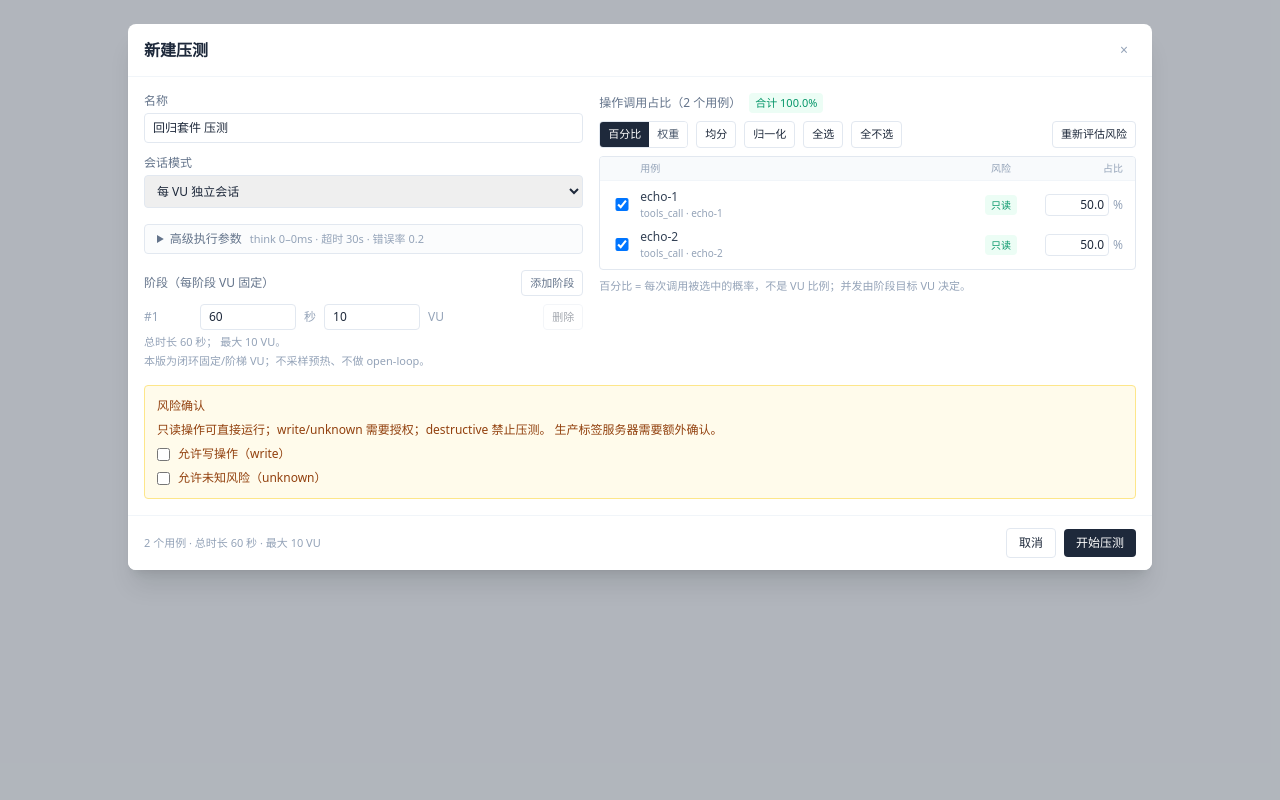
ProfileDialog 操作调用占比 › 取消后重新勾选会恢复原输入并参与归一化
Expected: the button "开始压测" is enabled, [1064,529,1136,557]
Replace the text in the field named "用例 echo-1 的占比" with "70" at (1077, 204), box [1045,194,1109,216]
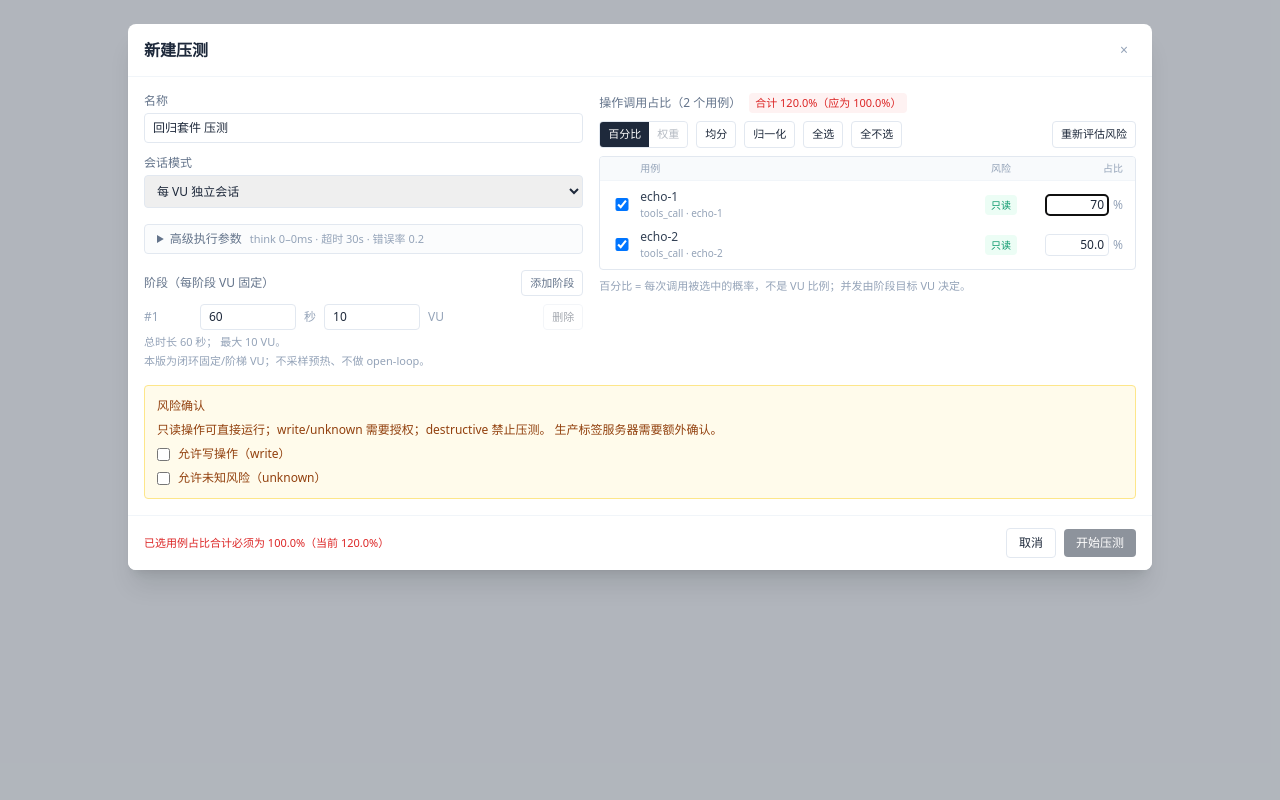
Replace the text in the field named "用例 echo-2 的占比" with "30" at (1077, 244), box [1045,234,1109,256]
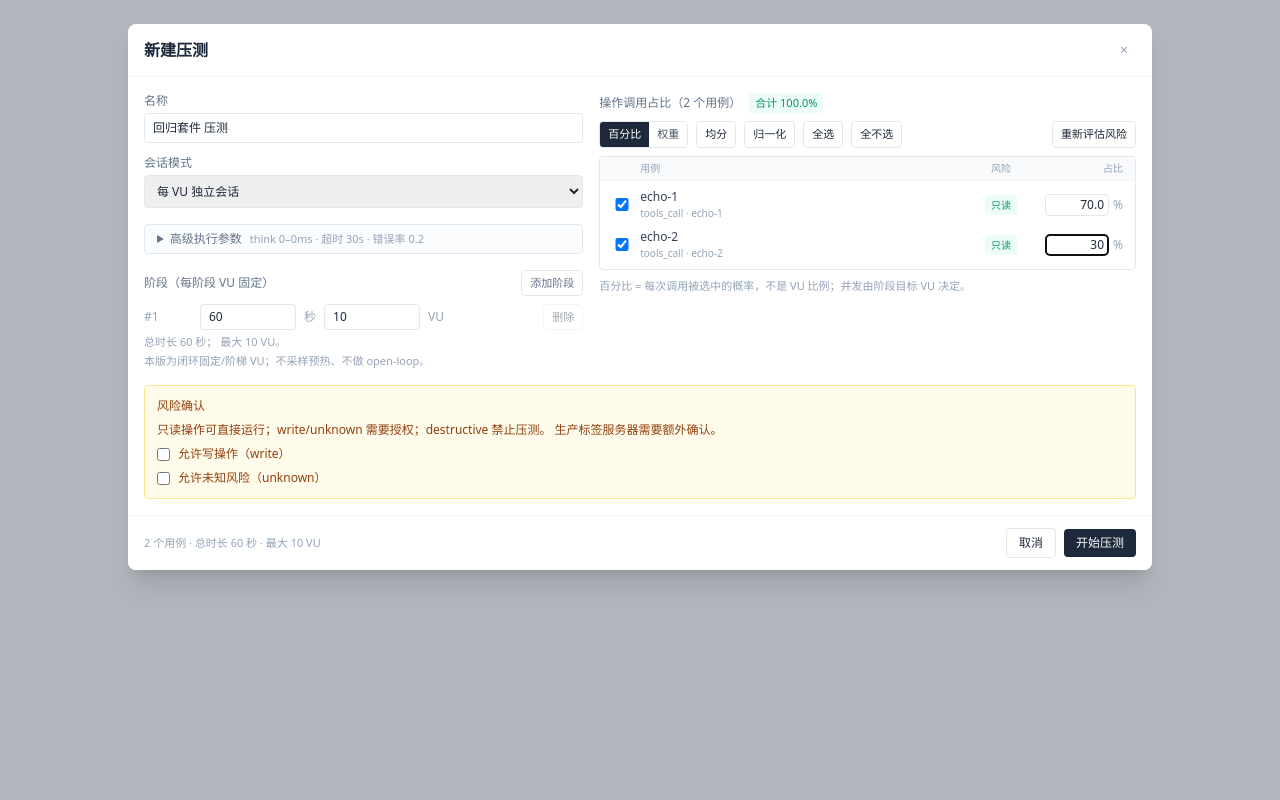
Press Tab
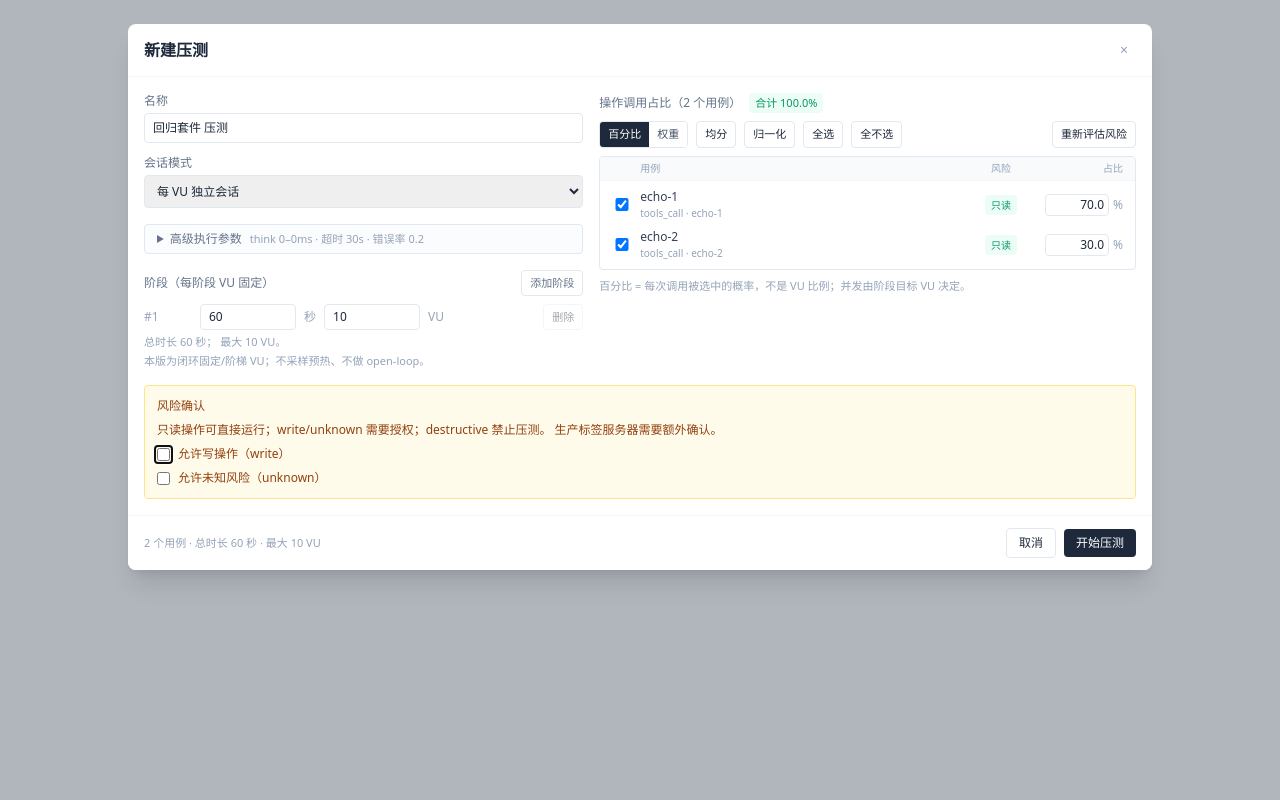
Expected: the text "合计 100.0%" is shown, [749,93,823,113]
Click the checkbox named "选择用例 echo-2" at (622, 244), box [612,238,632,251]
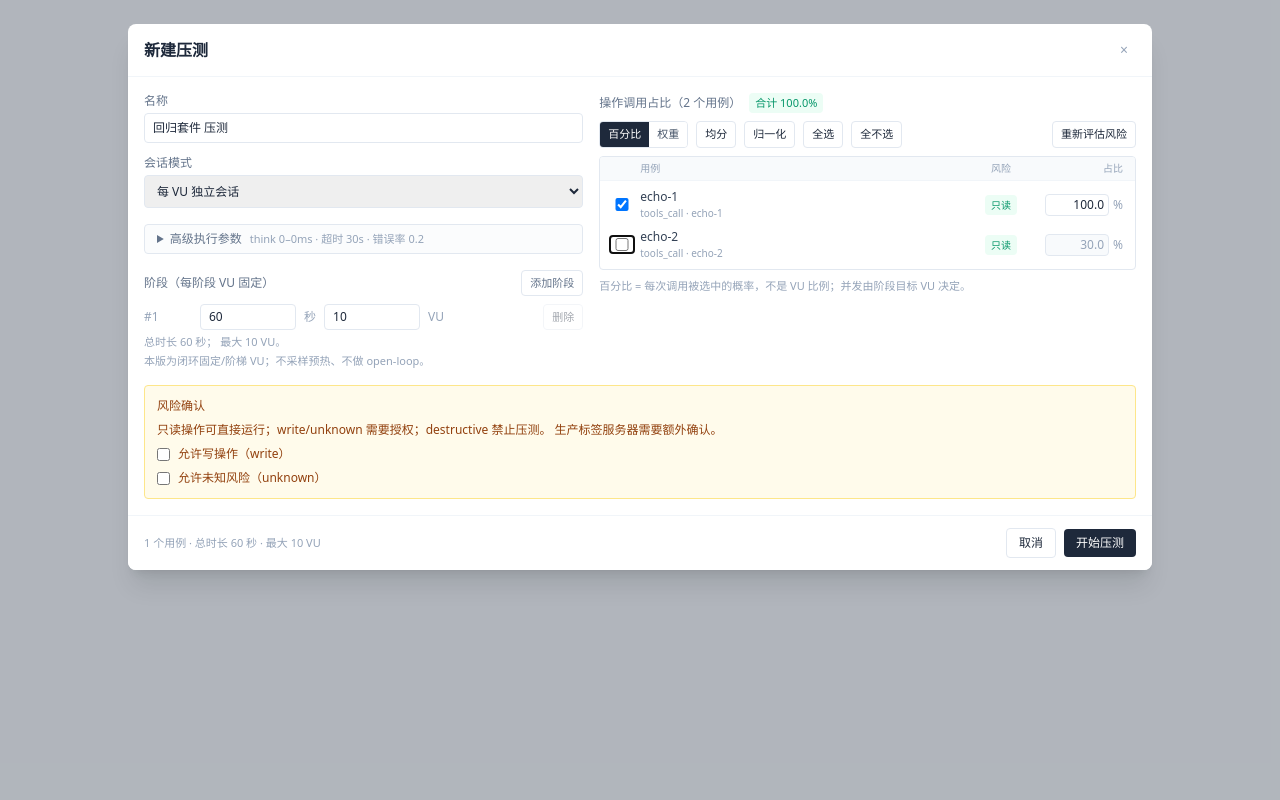
Expected: the field named "用例 echo-1 的占比" holds "100.0", [1045,194,1109,216]
Click the checkbox named "选择用例 echo-2" at (622, 244), box [612,238,632,251]
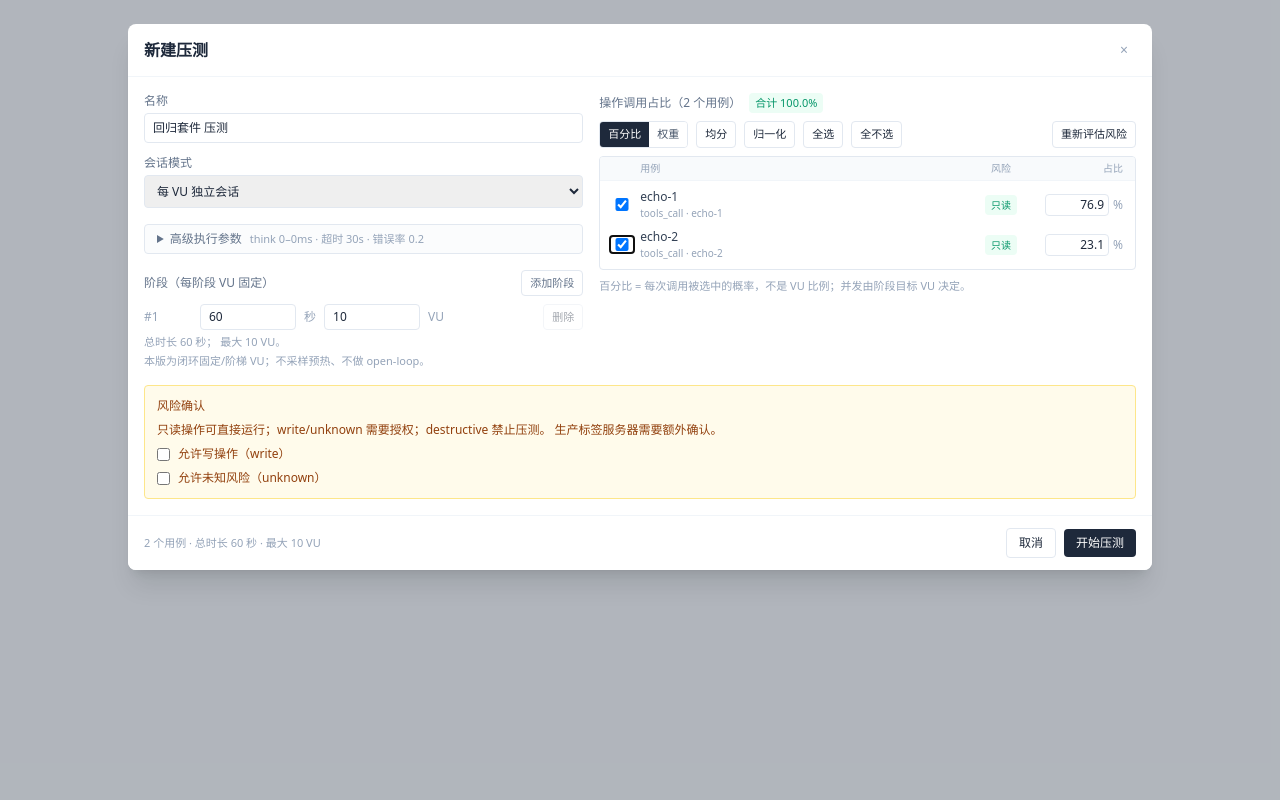
Expected: the button "开始压测" is enabled, [1064,529,1136,557]
Expected: the field named "用例 echo-1 的占比" holds "76.9", [1045,194,1109,216]
